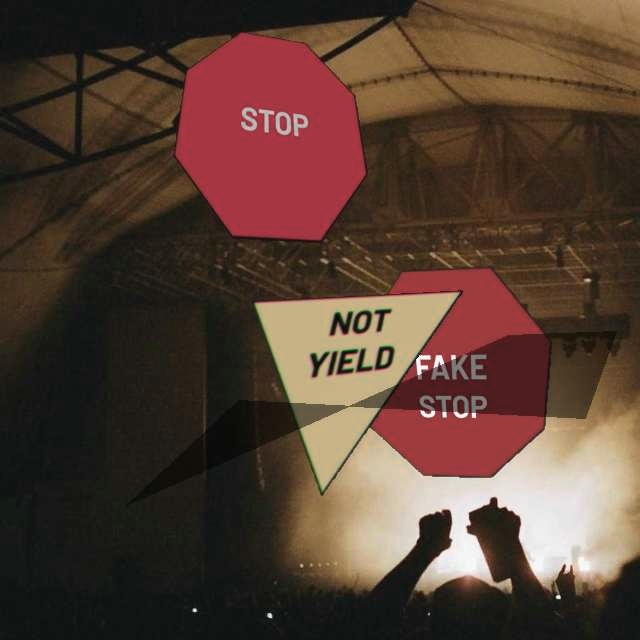FAKE_STOP: (354, 266, 552, 478)
NOT_YIELD: (251, 290, 463, 496)
STOP: (173, 31, 368, 243)
